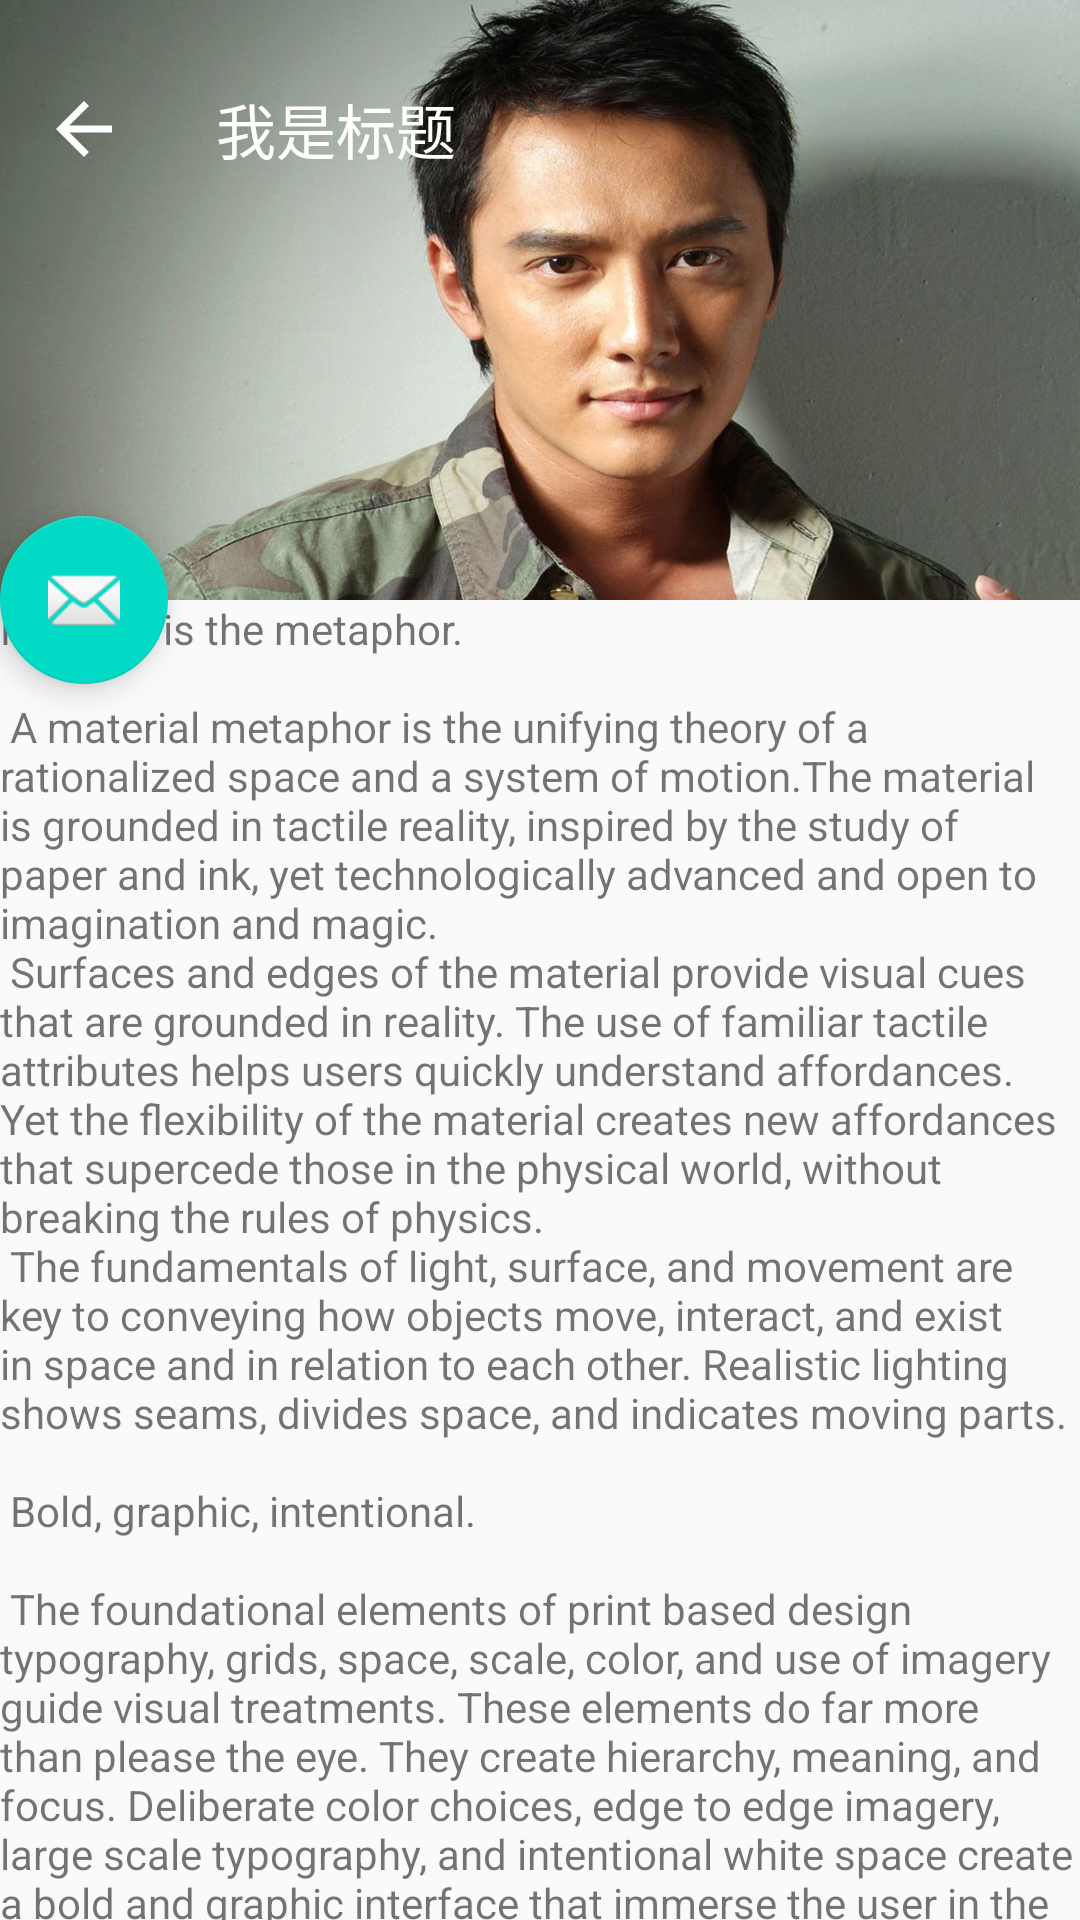

Screen size 1080 × 1920. Icon name, then its center in pixels as (x,y):
email: (84,600)
